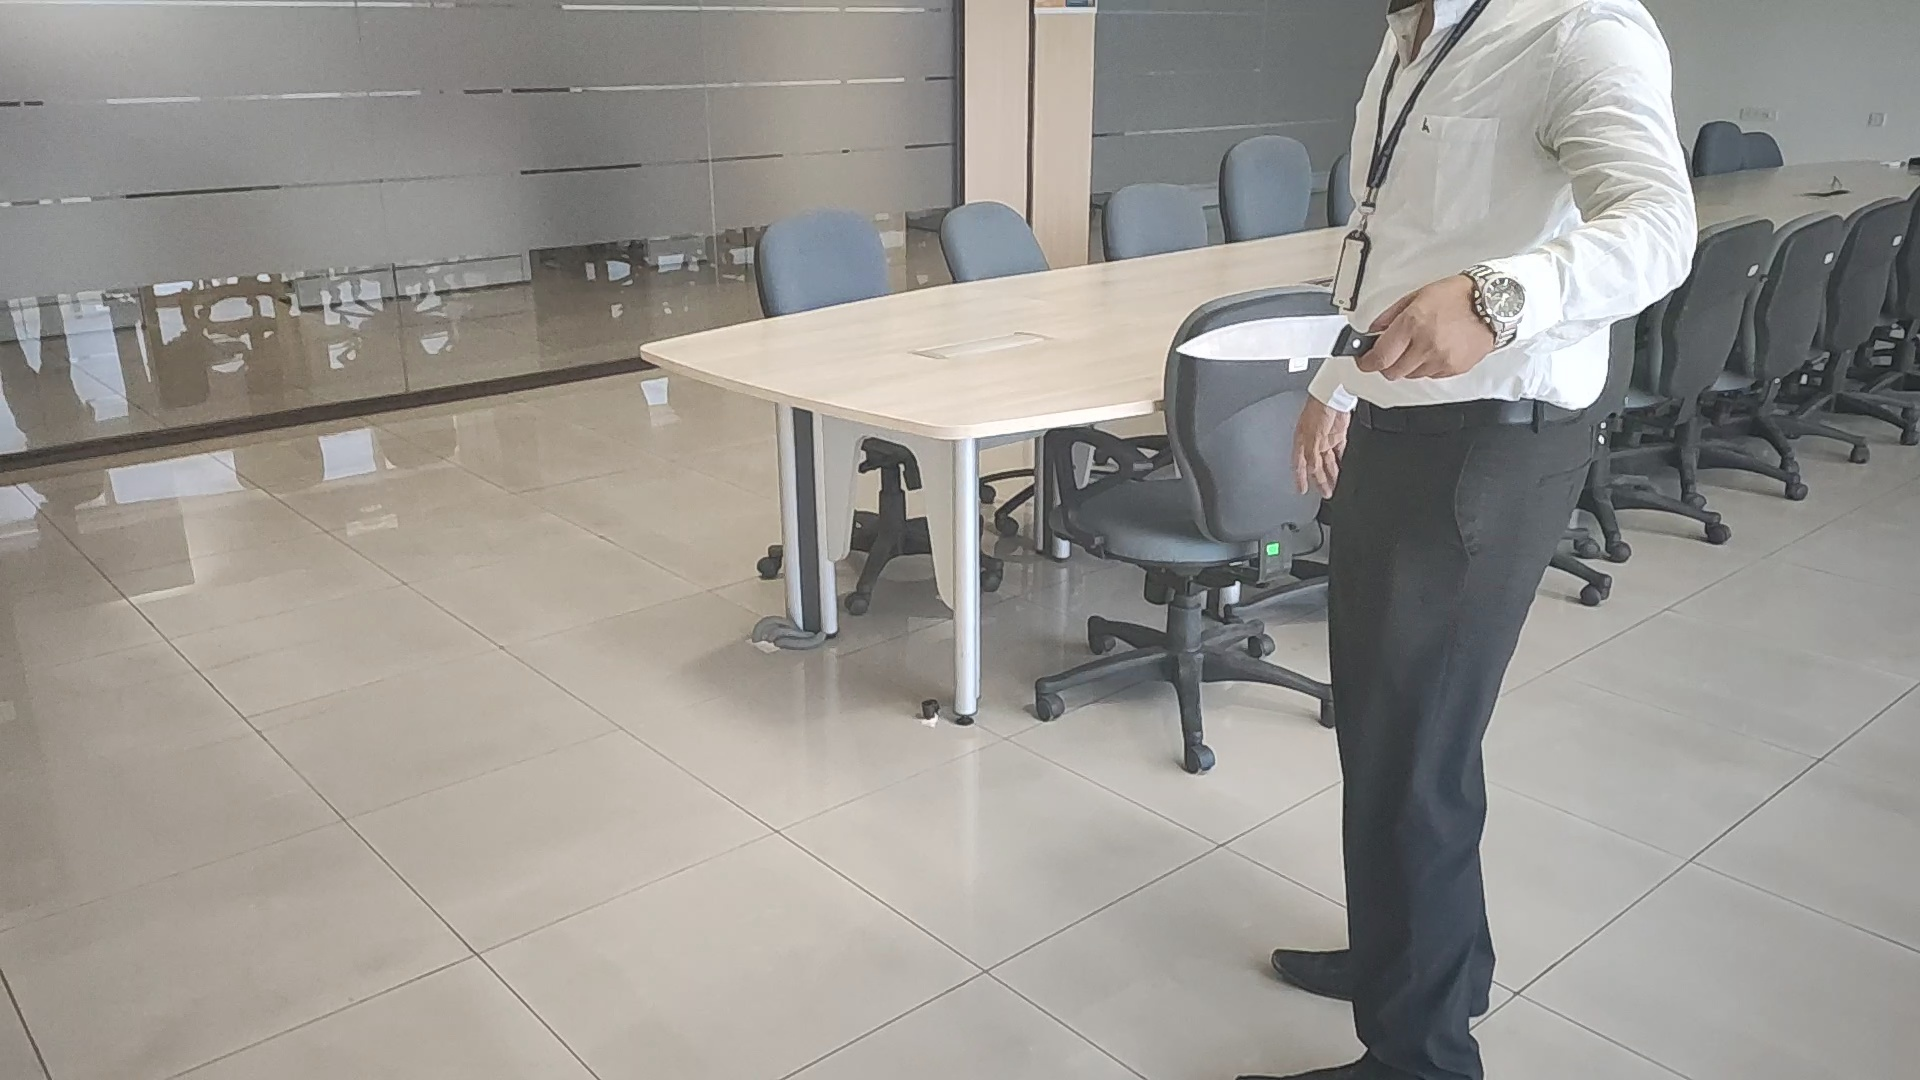knife: (1172, 310, 1371, 367)
